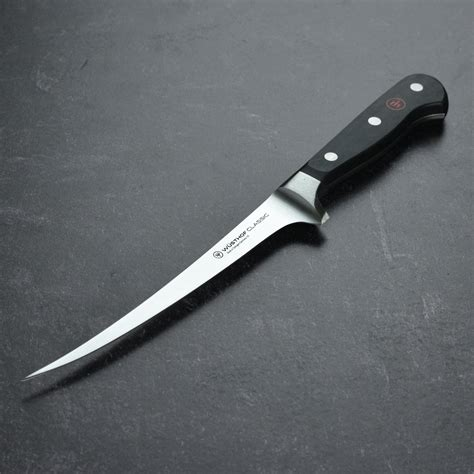knife: (18, 70, 448, 386)
